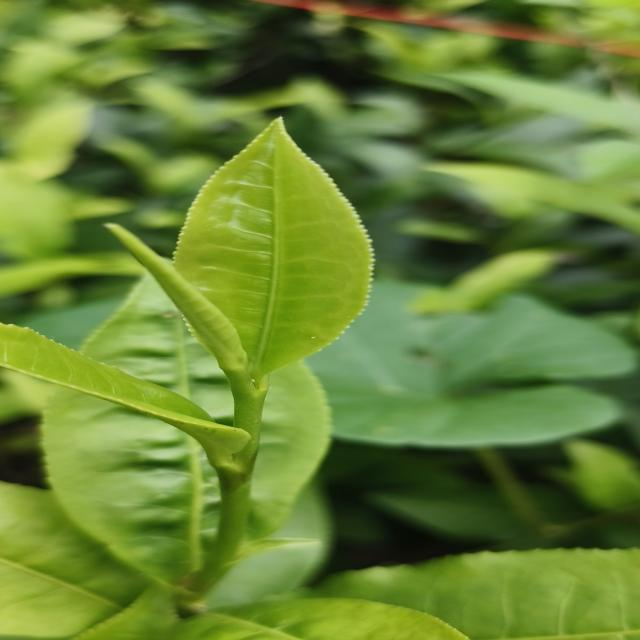Leaf: (175, 119, 371, 375), (0, 323, 249, 466), (42, 387, 219, 583), (312, 549, 640, 640), (0, 482, 154, 640), (82, 275, 233, 422), (427, 162, 640, 232), (252, 364, 329, 535), (178, 598, 467, 640), (135, 591, 173, 640)
